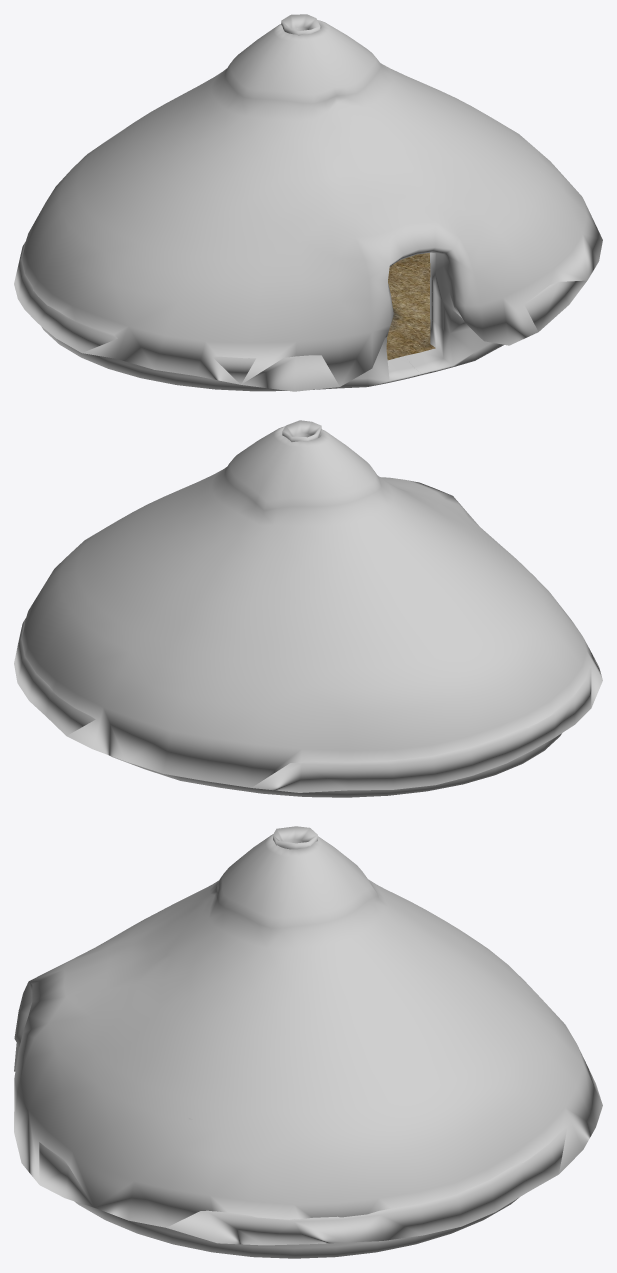
Rendered from building11.dae.
3 views of the same model, one above another, from view 1: azimuth 30°, elevation 25°; view 2: azimuth 150°, elevation 25°; view 3: azimuth 270°, elevation 25° (orthographic). The views are drawn at different scales.
Parts seen in each view (by area): view 1: meshU3D; view 2: meshU3D; view 3: meshU3D.
Boxes of the visible parts, x1,y1,x2,y2 form: meshU3D: (14,14,602,391); meshU3D: (14,420,602,797); meshU3D: (14,826,602,1258).
Bounding box in the file's own units: 414 × 203 × 366.
